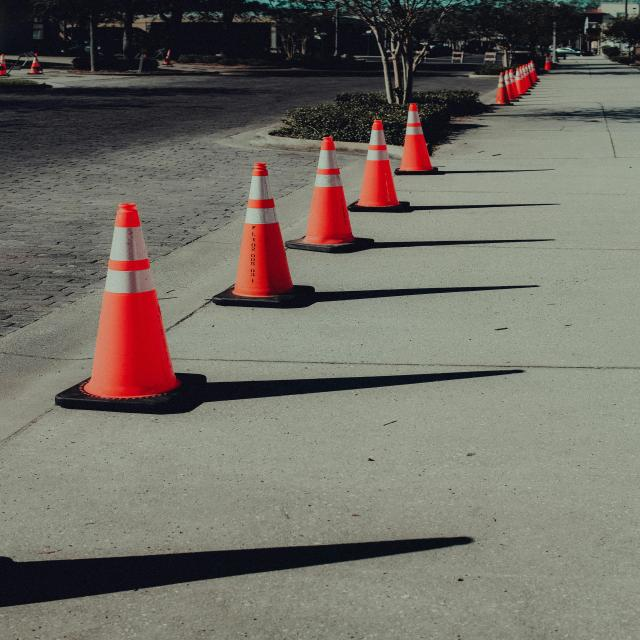Traffic Cone: (43, 194, 224, 426), (202, 153, 329, 314), (284, 127, 378, 259), (341, 110, 420, 220), (388, 95, 447, 183)
